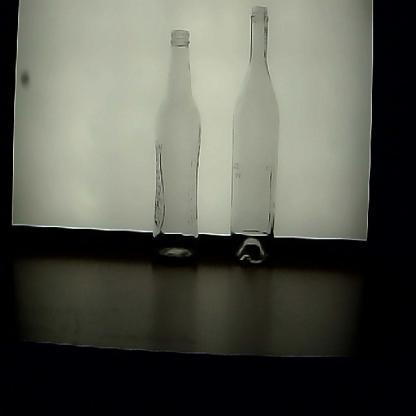Can: (230, 4, 279, 279), (150, 28, 204, 267)
